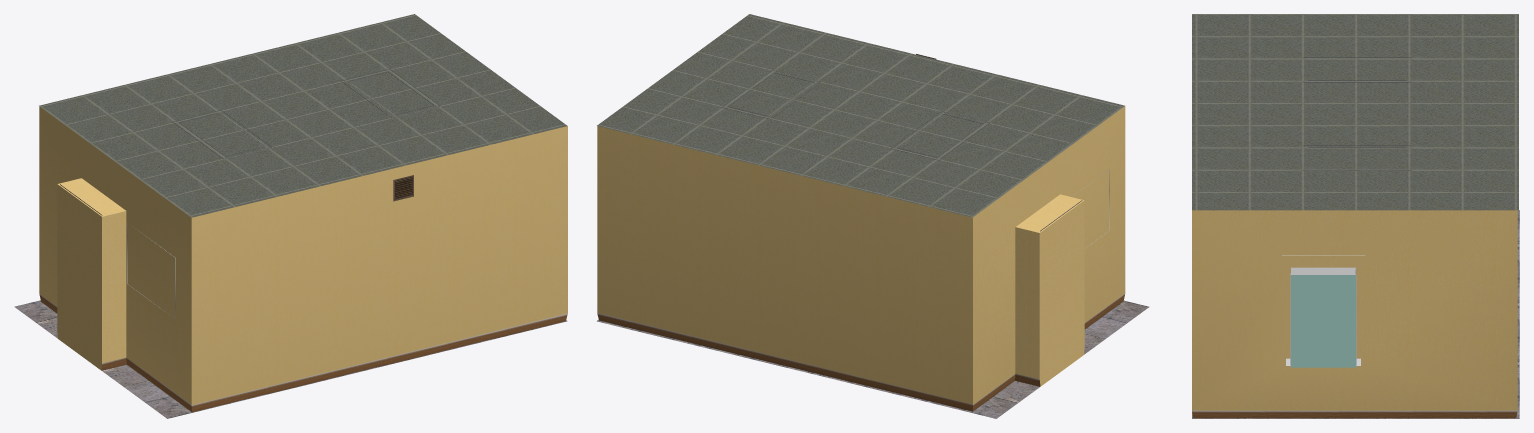
Rendered from workshop.fbx.
3 renders of one model, left to right at view 1: azimuth 30°, elevation 25°; view 2: azimuth 150°, elevation 25°; view 3: azimuth 270°, elevation 25°, orthographic. The views are drawn at different scales.
Visible parts, largest first — view 1: walls, walls.001, walls.002; view 2: walls, walls.001, walls.002; view 3: walls.001, walls, walls.005, walls.002, walls.003.
Part boxes in pixels (bbox=[...]): walls: bbox=[39, 106, 567, 412]; walls.001: bbox=[39, 14, 567, 217]; walls.002: bbox=[14, 300, 567, 418]; walls: bbox=[597, 106, 1125, 411]; walls.001: bbox=[597, 14, 1124, 217]; walls.002: bbox=[597, 300, 1149, 418]; walls.001: bbox=[1192, 14, 1518, 210]; walls: bbox=[1192, 210, 1517, 418]; walls.005: bbox=[1291, 275, 1355, 367]; walls.002: bbox=[1192, 210, 1519, 418]; walls.003: bbox=[1290, 267, 1355, 274].
Size of the model in its own units: 617 by 278 by 411.
